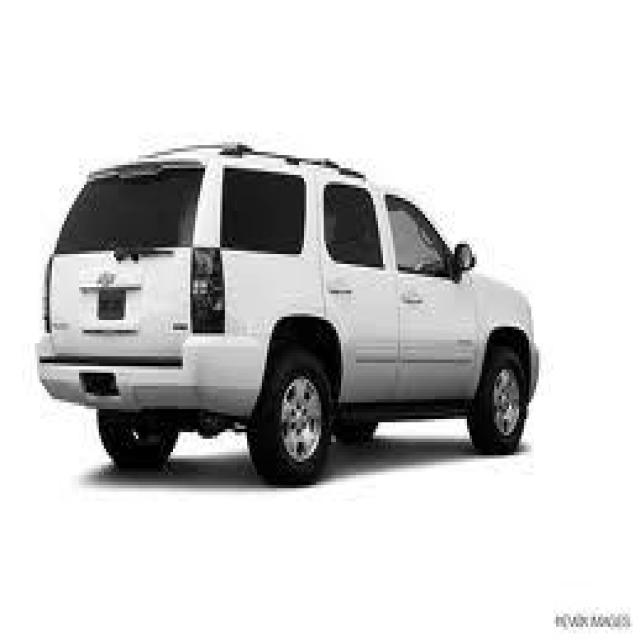car: (34, 139, 538, 485)
